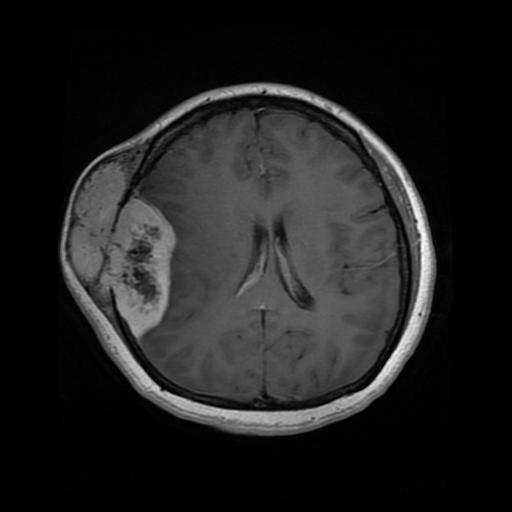Tumour-Meningioma: (64, 152, 183, 336)
